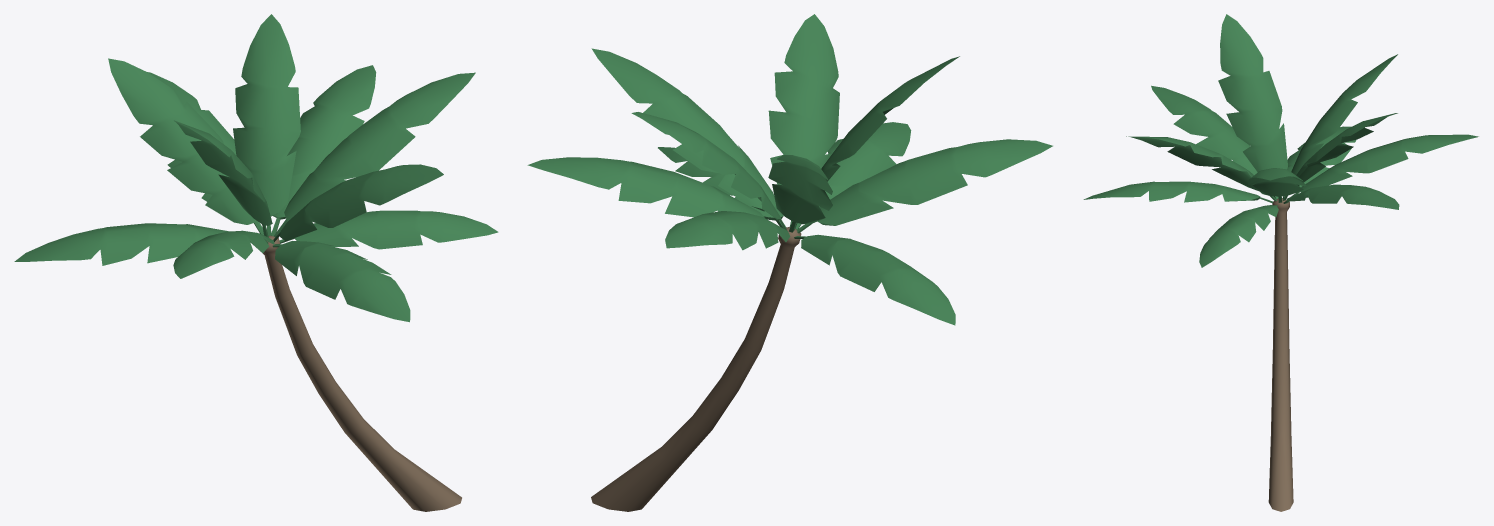
The model's file is PalmTree03_tilted.fbx.
The picture shows the model from 3 angles, left to right: view 1: azimuth 30°, elevation 25°; view 2: azimuth 150°, elevation 25°; view 3: azimuth 270°, elevation 25°; orthographic projection. The views are drawn at different scales.
Parts seen in each view (by area): view 1: PalmTree03_tilted; view 2: PalmTree03_tilted; view 3: PalmTree03_tilted.
Part boxes in pixels (x1,y1,x2,y2): PalmTree03_tilted: [14, 14, 498, 511]; PalmTree03_tilted: [527, 14, 1052, 511]; PalmTree03_tilted: [1083, 14, 1478, 511].
Bounding box in the file's own units: 0.4672 × 0.527 × 0.5058.
